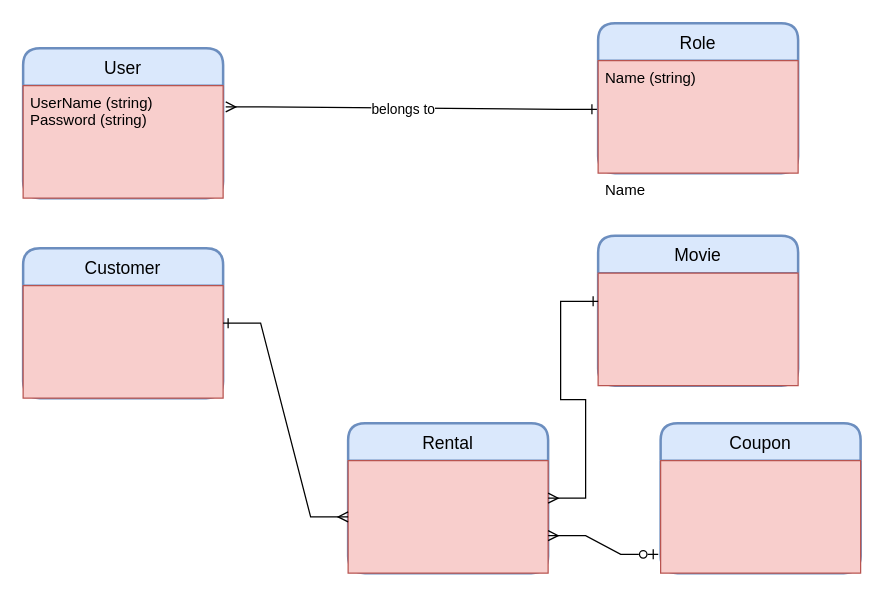
Image size: 883x595. Some labels were removed from this diagram. Here are the shapes that lost their labels. From the top down, the centre of each, then its label:
At (122,341): "FirstName (string) LastName (string) Email (string)Phone (string)".
At (697,329): "Barcode (string) DailyRentalRate (float) NumberInStock (integer)".
At (447,516): "RentDate (date) ReturnDate (dateTime)".
At (760,516): "Code Description Discount".
